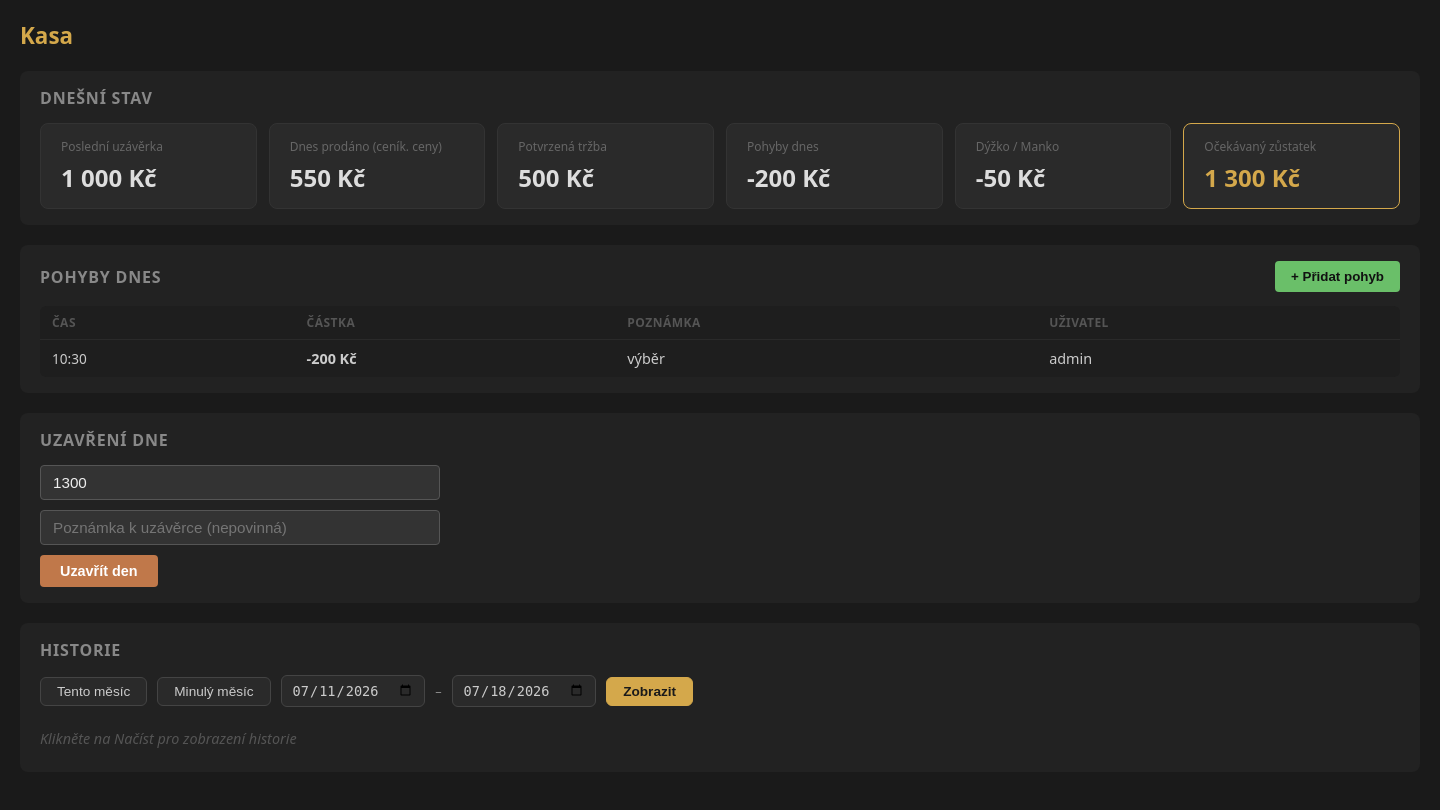
Test: Admin Kasa › tlačítko "Přidat pohyb" zobrazí formulář
Expected: the text "1 300 Kč" is shown, [1204,161,1300,194]
Click the button "+ Přidat pohyb". click: click(1338, 276)
box: [1275,261,1400,292]
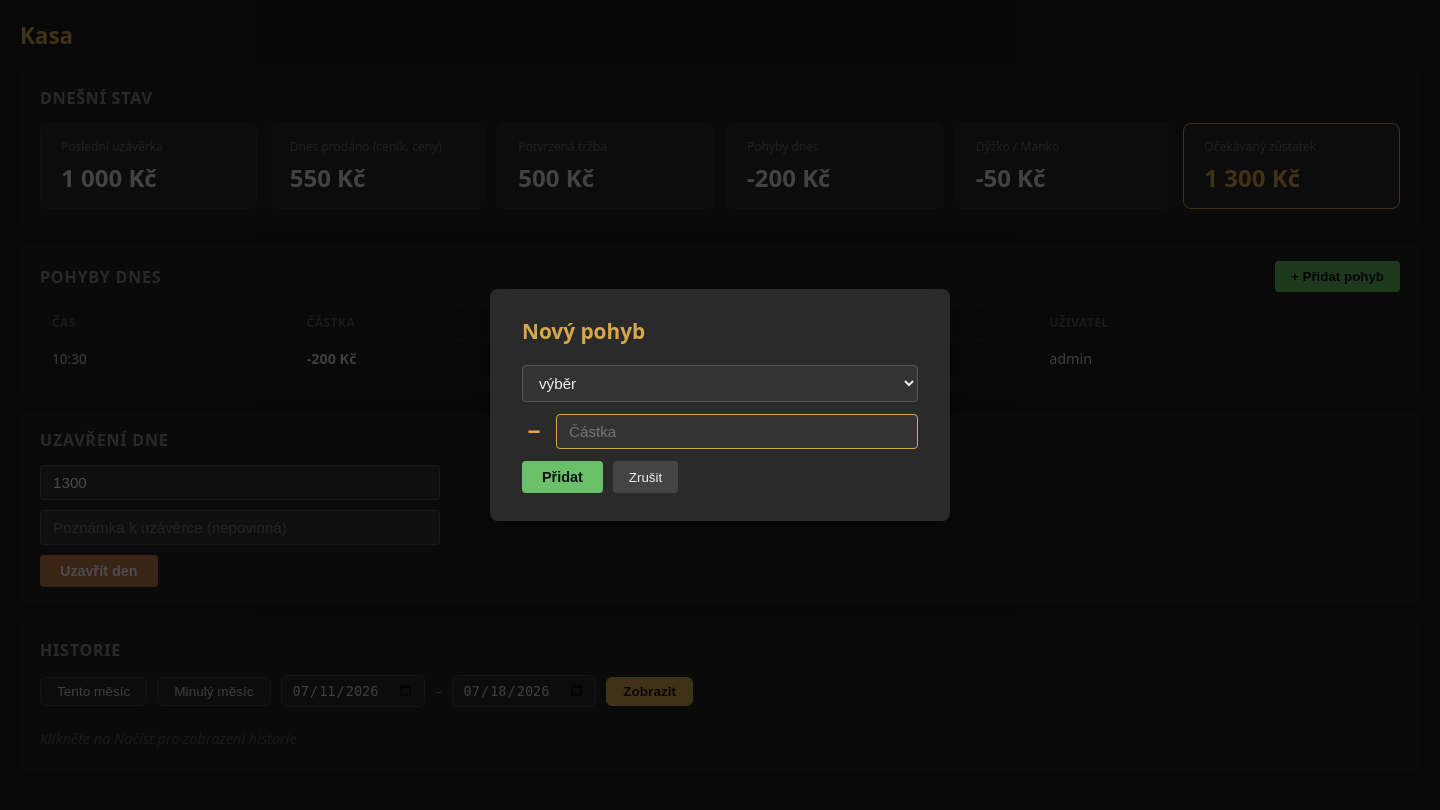
Now the number field with placeholder "Částka" is shown, box [556,414,918,449]
